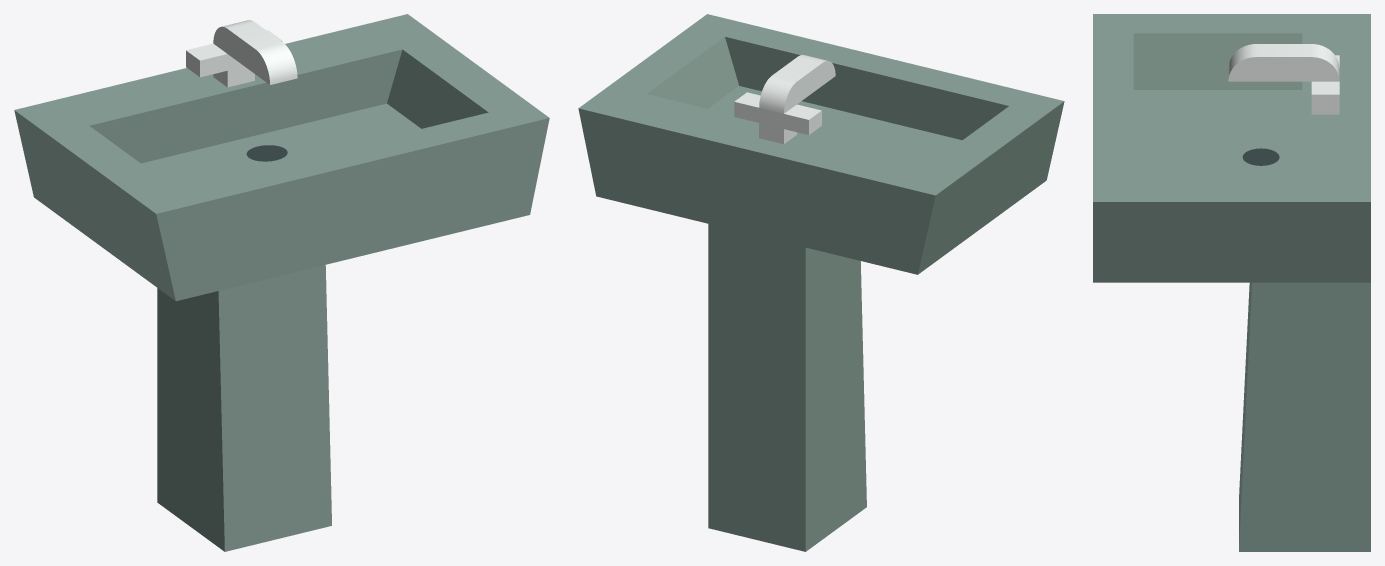
The model's file is bathroom_vanity.glb.
The picture shows the model from 3 angles, left to right: view 1: azimuth 30°, elevation 25°; view 2: azimuth 150°, elevation 25°; view 3: azimuth 270°, elevation 25°; orthographic projection. The views are drawn at different scales.
Visible parts, largest first — view 1: bathroomSinkSquare(Clone); view 2: bathroomSinkSquare(Clone); view 3: bathroomSinkSquare(Clone).
Part boxes in pixels (x1,y1,x2,y2): bathroomSinkSquare(Clone): (14, 14, 549, 551); bathroomSinkSquare(Clone): (578, 14, 1064, 551); bathroomSinkSquare(Clone): (1093, 14, 1370, 551).
Bounding box in the file's own units: 0.72 × 0.85 × 0.45.
